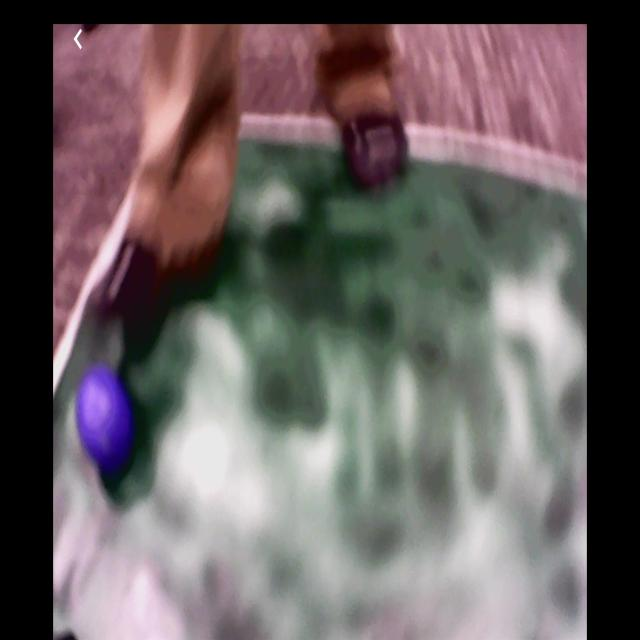ball: (74, 375, 130, 465)
